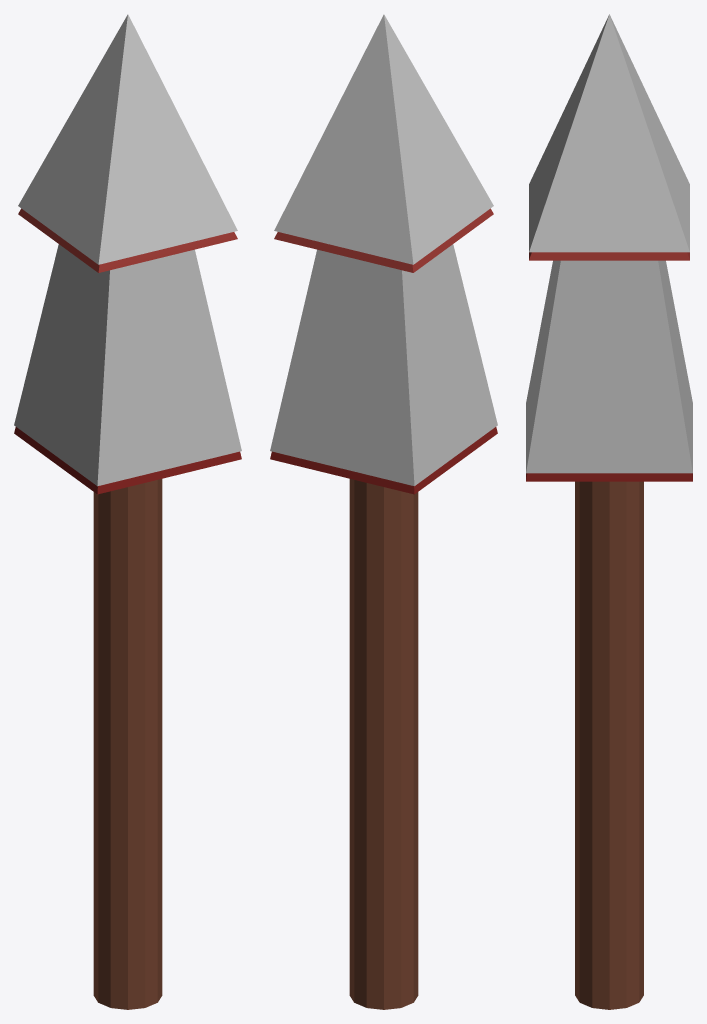
File: Tree_16_winter_gradient_red_vc.fbx
3 renders of one model, left to right at view 1: azimuth 30°, elevation 25°; view 2: azimuth 150°, elevation 25°; view 3: azimuth 270°, elevation 25°, orthographic.
Visible parts, largest first — view 1: Tree_16_winter_gradient_red_vc; view 2: Tree_16_winter_gradient_red_vc; view 3: Tree_16_winter_gradient_red_vc.
Part boxes in pixels (x1,y1,x2,y2): Tree_16_winter_gradient_red_vc: (14, 14, 241, 1009); Tree_16_winter_gradient_red_vc: (270, 14, 497, 1009); Tree_16_winter_gradient_red_vc: (526, 14, 692, 1009).
Bounding box in the file's own units: 53.67 × 348 × 53.67.
